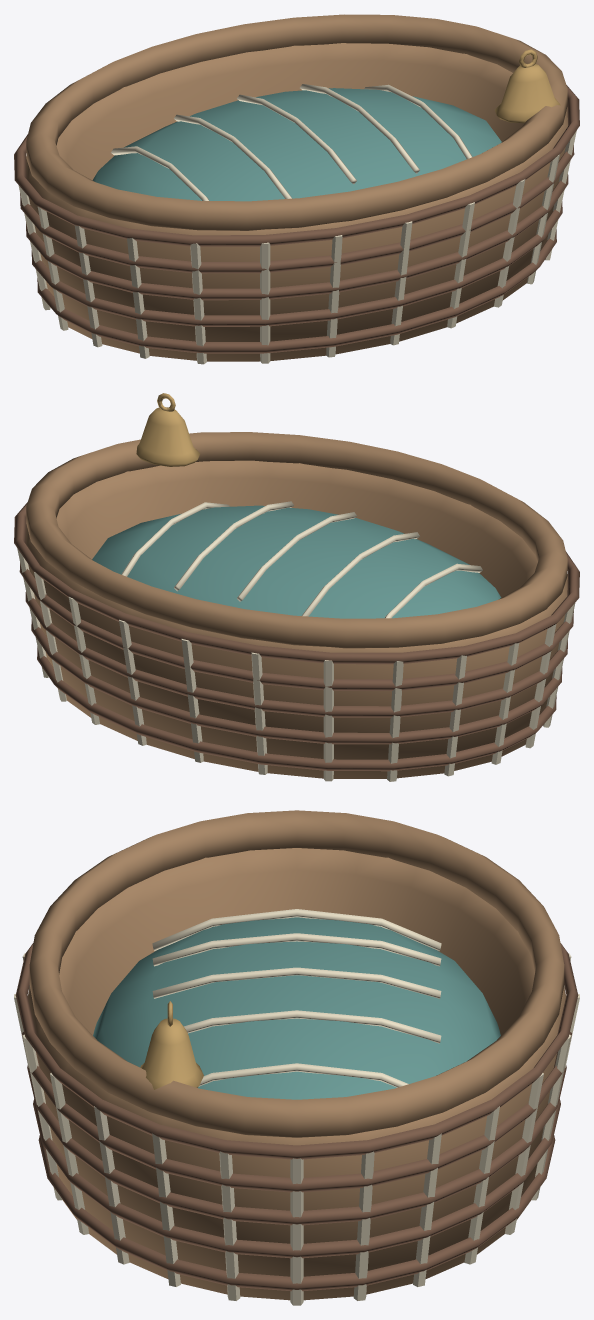
The model's file is dog_basket.glb.
3 renders of one model, top to bottom at view 1: azimuth 30°, elevation 25°; view 2: azimuth 150°, elevation 25°; view 3: azimuth 270°, elevation 25°, orthographic. The views are drawn at different scales.
Parts seen in each view (by area): view 1: Wicker basket body, Thick braided rim, Soft knitted blanket, Horizontal wicker weave.004, Horizontal wicker weave.002, Horizontal wicker weave.001, Horizontal wicker weave.003, Horizontal wicker weave, Bell flared cup, Wicker upright.016, Wicker upright.017, Wicker upright.015 (+14 smaller); view 2: Wicker basket body, Thick braided rim, Soft knitted blanket, Horizontal wicker weave.004, Horizontal wicker weave.001, Horizontal wicker weave.002, Horizontal wicker weave.003, Horizontal wicker weave, Bell flared cup, Wicker upright.008, Wicker upright.007, Wicker upright.009 (+14 smaller); view 3: Wicker basket body, Thick braided rim, Soft knitted blanket, Horizontal wicker weave.004, Horizontal wicker weave, Horizontal wicker weave.001, Horizontal wicker weave.002, Horizontal wicker weave.003, Bell flared cup, Blanket knit seam, Blanket knit seam.002, Blanket knit seam.001 (+13 smaller).
Boxes of the visible parts, x1,y1,x2,y2 form: Wicker basket body: (26,43,567,361); Thick braided rim: (26,14,567,230); Soft knitted blanket: (92,88,501,201); Horizontal wicker weave.004: (14,85,579,246); Horizontal wicker weave.002: (26,174,568,300); Horizontal wicker weave.001: (31,201,562,326); Horizontal wicker weave.003: (20,145,574,273); Horizontal wicker weave: (37,229,556,353); Bell flared cup: (494,63,560,123); Wicker upright.016: (260,242,270,363); Wicker upright.017: (326,235,342,357); Wicker upright.015: (190,243,206,364); Wicker basket body: (26,460,567,778); Thick braided rim: (26,432,567,648); Soft knitted blanket: (92,505,501,618); Horizontal wicker weave.004: (14,502,579,664); Horizontal wicker weave.001: (31,619,562,744); Horizontal wicker weave.002: (25,592,567,717); Horizontal wicker weave.003: (19,563,573,690); Horizontal wicker weave: (37,646,556,771); Bell flared cup: (136,407,200,466); Wicker upright.008: (323,660,333,781); Wicker upright.007: (251,652,267,774); Wicker upright.009: (387,661,403,781); Wicker basket body: (27,848,566,1300); Thick braided rim: (29,810,564,1137); Soft knitted blanket: (93,917,500,1099); Horizontal wicker weave.004: (15,943,578,1159); Horizontal wicker weave: (38,1135,555,1291); Horizontal wicker weave.001: (33,1099,560,1258); Horizontal wicker weave.002: (27,1065,566,1225); Horizontal wicker weave.003: (22,1032,571,1192); Bell flared cup: (140,1018,203,1089); Blanket knit seam: (152,909,441,950); Blanket knit seam.002: (152,967,441,998); Blanket knit seam.001: (152,933,441,966).
Bounding box in the file's own units: 0.6661 × 0.2704 × 0.4959.
